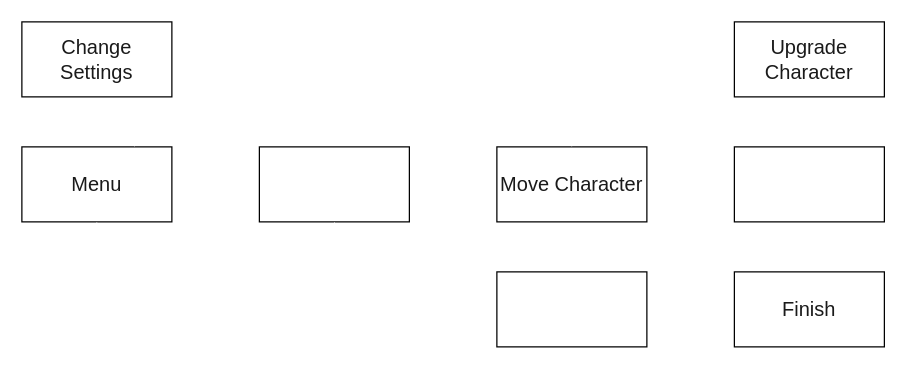
This 906x369 diagram has some shape labels left out. The centre of each missing label's shape, as x and y in pixels:
"Choose Nickname" goes at (333,184).
"Game Over" goes at (571,309).
"Kill Enemies" goes at (808,184).
